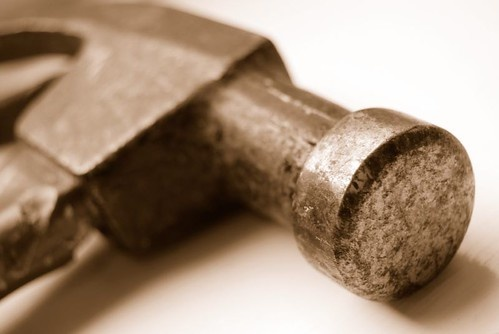hammer: (1, 1, 477, 331)
